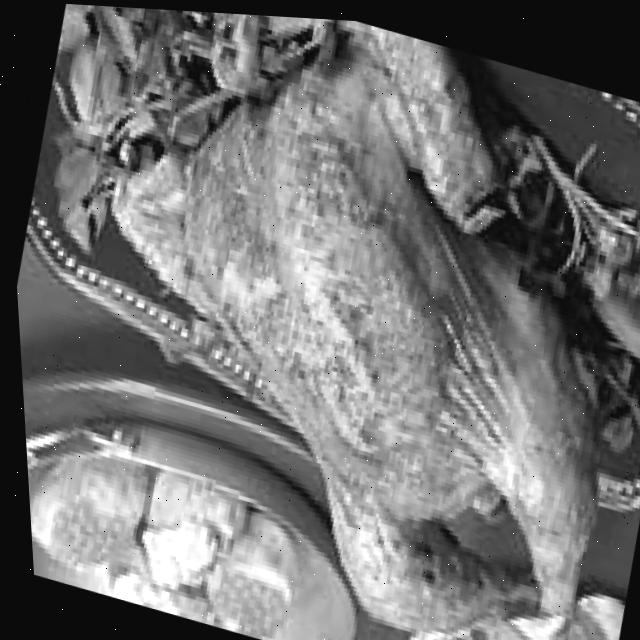鸡肉料理 含炸鸡: (79, 4, 640, 640)
